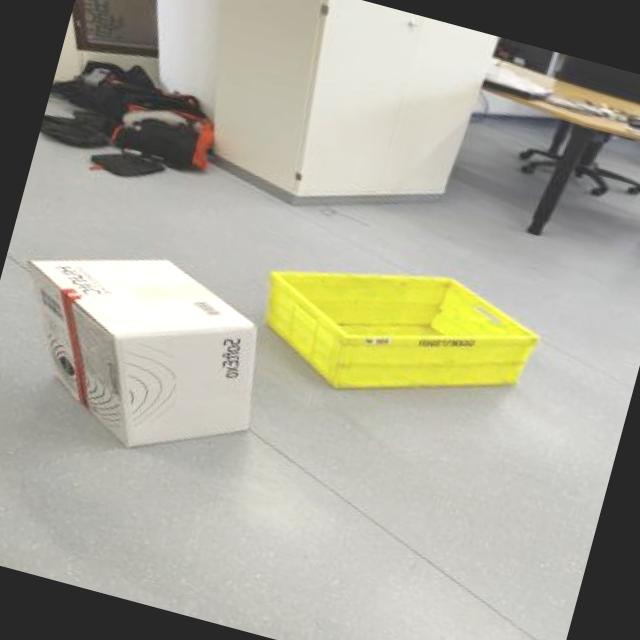box: (0, 209, 284, 480), (248, 220, 558, 434)
